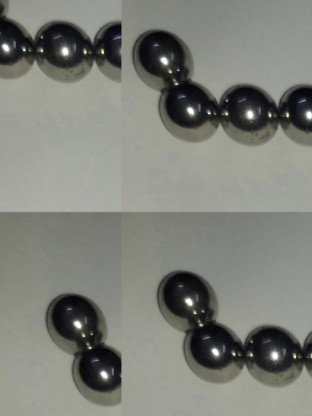ironball: (22, 15, 95, 85), (151, 263, 225, 331), (240, 314, 303, 390), (214, 75, 281, 146), (160, 75, 220, 146), (133, 21, 198, 85), (180, 321, 244, 386), (46, 292, 109, 356), (70, 340, 121, 407), (274, 73, 310, 150), (90, 16, 123, 85), (0, 13, 32, 78), (297, 318, 310, 384)
